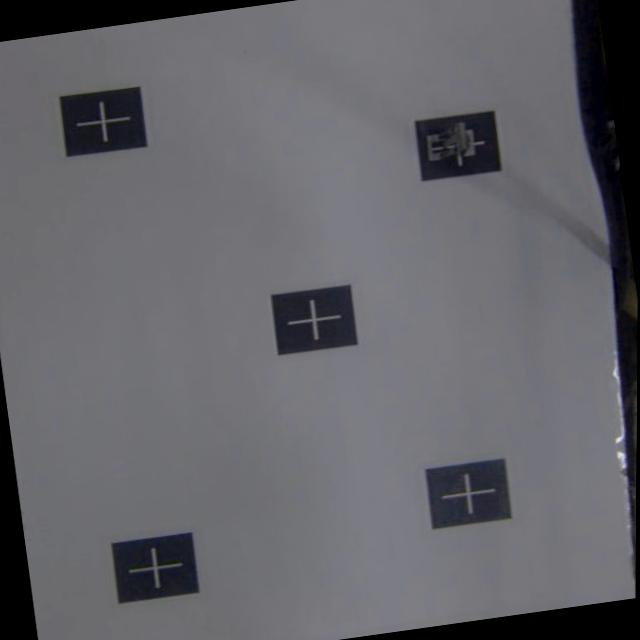pick2: (413, 107, 504, 184)
